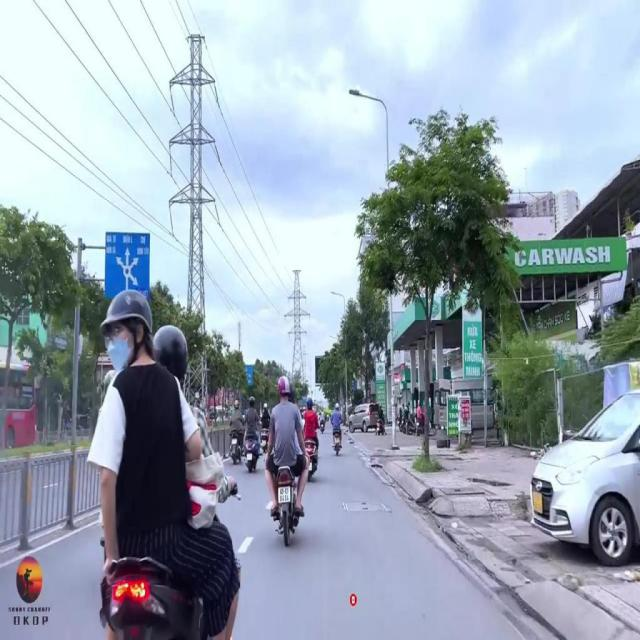khac: (103, 232, 150, 300)
